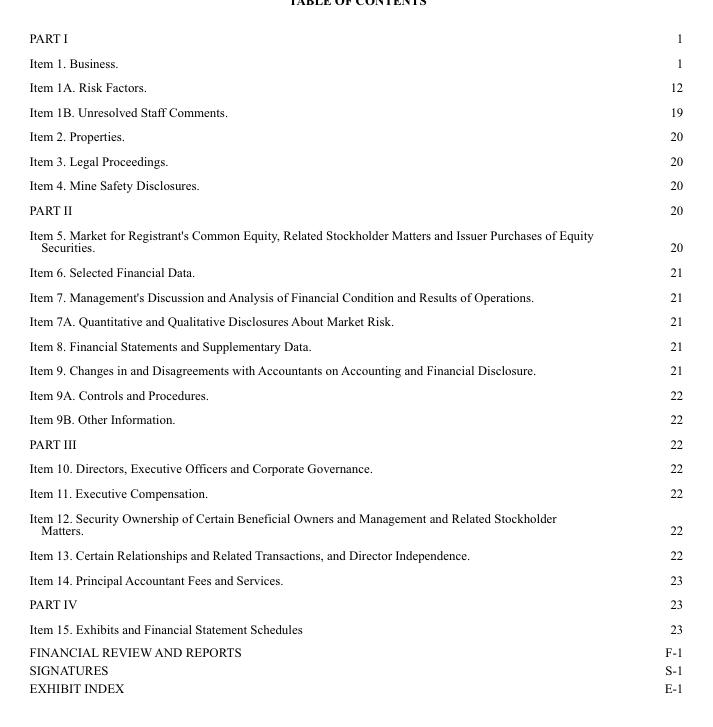table: (28, 29, 682, 696)
table column: (28, 29, 628, 696), (628, 29, 682, 696)
table row: (28, 221, 682, 259), (28, 504, 682, 542), (28, 49, 682, 74), (28, 74, 682, 99), (28, 123, 682, 148), (28, 172, 682, 197), (28, 283, 682, 308), (28, 332, 682, 357), (28, 381, 682, 406), (28, 406, 682, 431), (28, 455, 682, 480), (28, 566, 682, 591), (28, 99, 682, 123), (28, 148, 682, 172), (28, 197, 682, 221), (28, 259, 682, 283), (28, 308, 682, 332), (28, 357, 682, 381), (28, 431, 682, 455), (28, 480, 682, 504), (28, 542, 682, 566), (28, 591, 682, 615), (28, 615, 682, 639), (28, 639, 682, 660), (28, 29, 682, 49), (28, 660, 682, 678), (28, 678, 682, 696)
